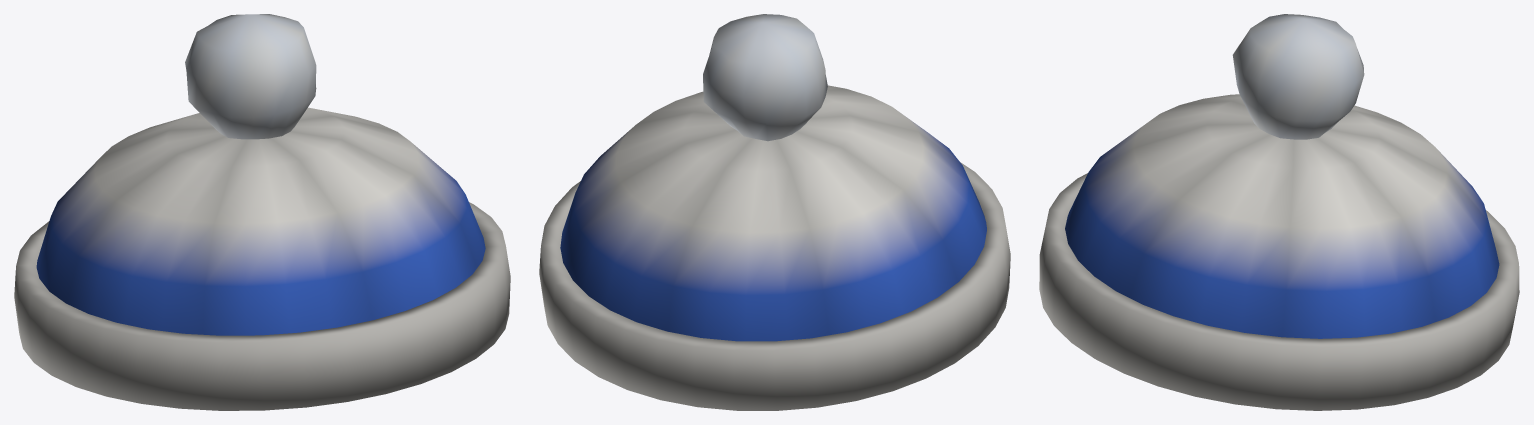
File: Wear_Knit.fbx
The picture shows the model from 3 angles, left to right: view 1: azimuth 30°, elevation 25°; view 2: azimuth 150°, elevation 25°; view 3: azimuth 270°, elevation 25°; orthographic projection. The views are drawn at different scales.
Visible parts, largest first — view 1: Wear_Knit; view 2: Wear_Knit; view 3: Wear_Knit.
Part boxes in pixels (bbox=[...]): Wear_Knit: bbox=[14, 14, 510, 410]; Wear_Knit: bbox=[539, 14, 1010, 410]; Wear_Knit: bbox=[1039, 14, 1519, 410].
Bounding box in the file's own units: 0.15 × 0.1061 × 0.1495.
